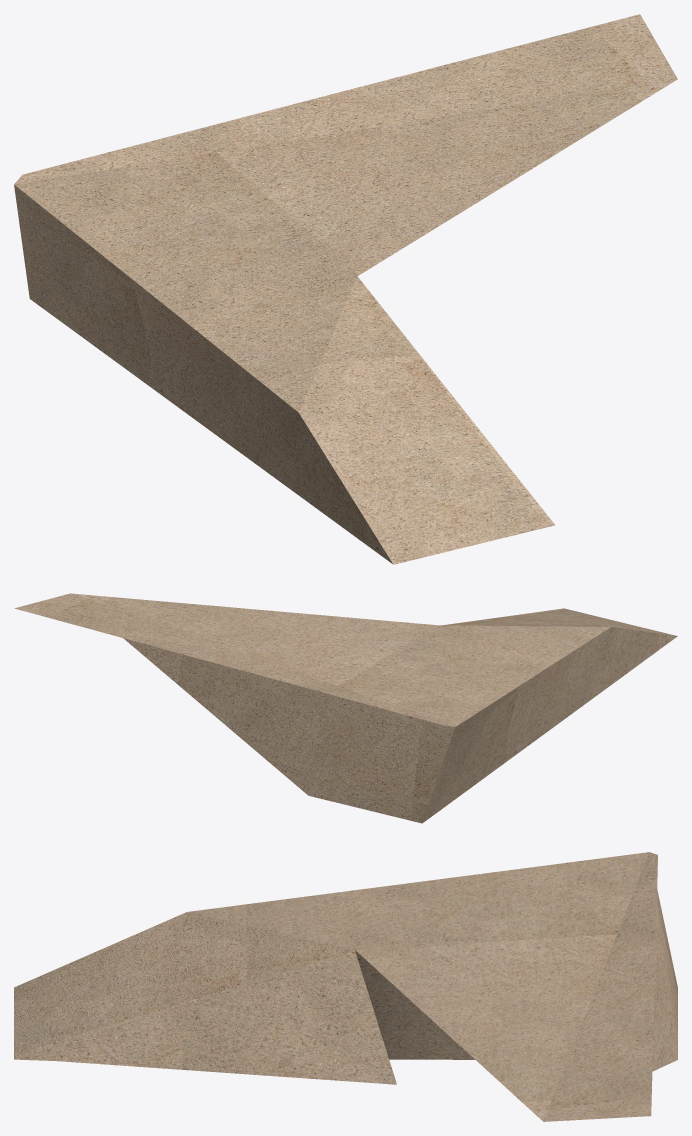
The model's file is Ramp.obj.
3 views of the same model, one above another, from view 1: azimuth 30°, elevation 25°; view 2: azimuth 150°, elevation 25°; view 3: azimuth 270°, elevation 25° (orthographic). The views are drawn at different scales.
Parts seen in each view (by area): view 1: Ramp; view 2: Ramp; view 3: Ramp.
Part boxes in pixels (<box>): Ramp: <box>14,14,677,564</box>; Ramp: <box>14,593,677,823</box>; Ramp: <box>14,852,677,1121</box>.
Bounding box in the file's own units: 215 × 49.12 × 216.
1 material, 1 textured.
